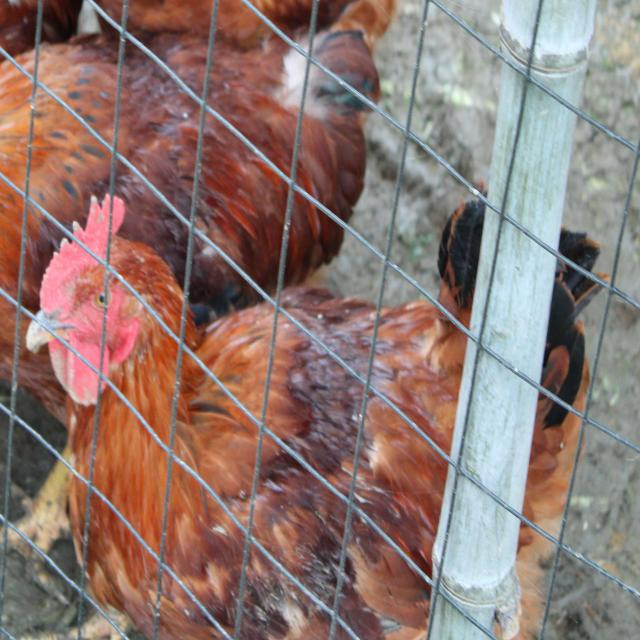cook: (505, 266, 604, 640)
